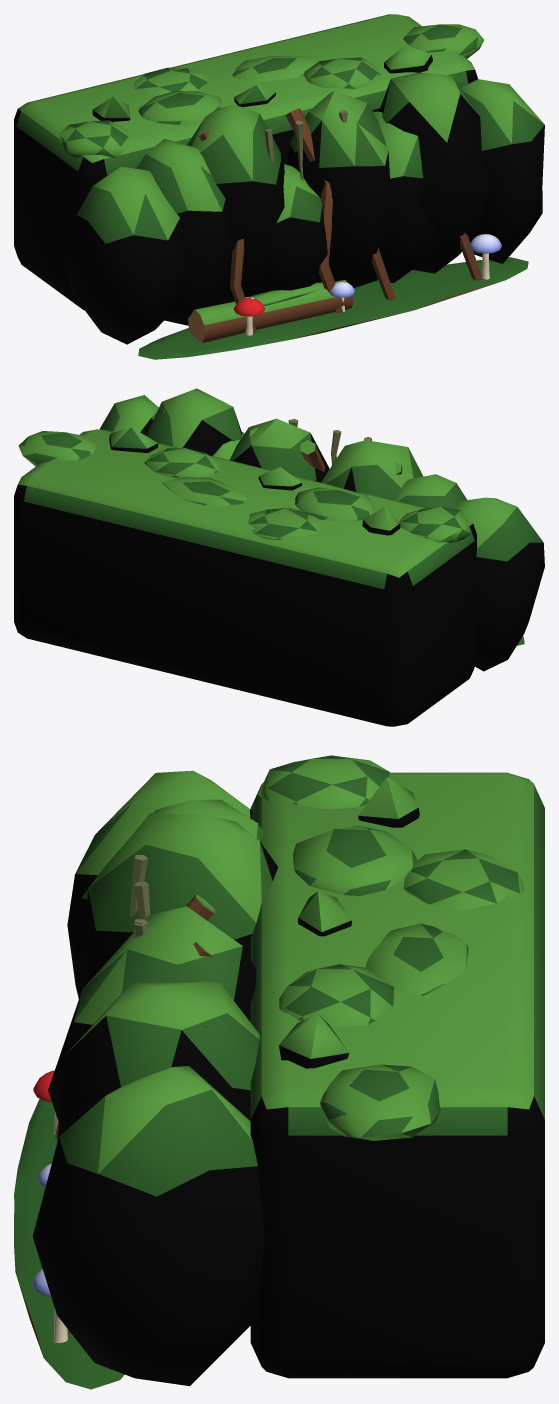
The model's file is SwampBankA.fbx.
3 views of the same model, one above another, from view 1: azimuth 30°, elevation 25°; view 2: azimuth 150°, elevation 25°; view 3: azimuth 270°, elevation 25° (orthographic). The views are drawn at different scales.
Visible parts, largest first — view 1: SwampBankA; view 2: SwampBankA; view 3: SwampBankA.
Boxes of the visible parts, x1,y1,x2,y2 form: SwampBankA: (14,14,544,359); SwampBankA: (14,388,544,726); SwampBankA: (14,755,544,1389).
Size of the model in its own units: 8.72 by 3.67 by 4.96.
Materials: 2 (2 with a texture image).
